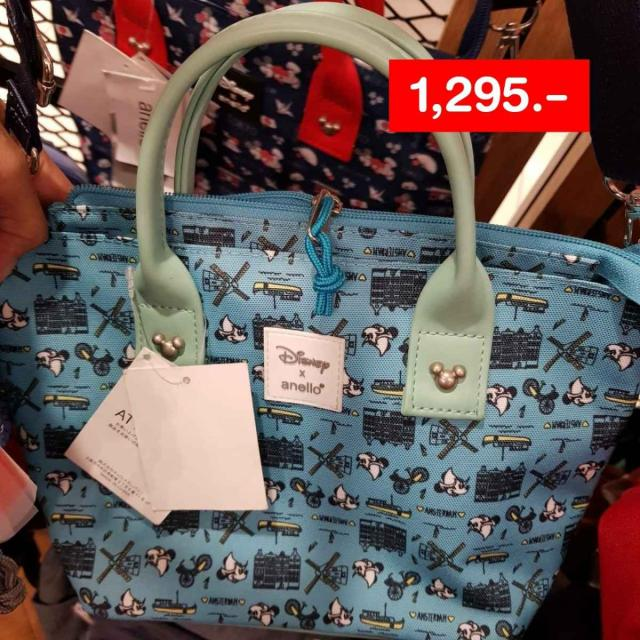Handbag: (0, 176, 640, 640)
